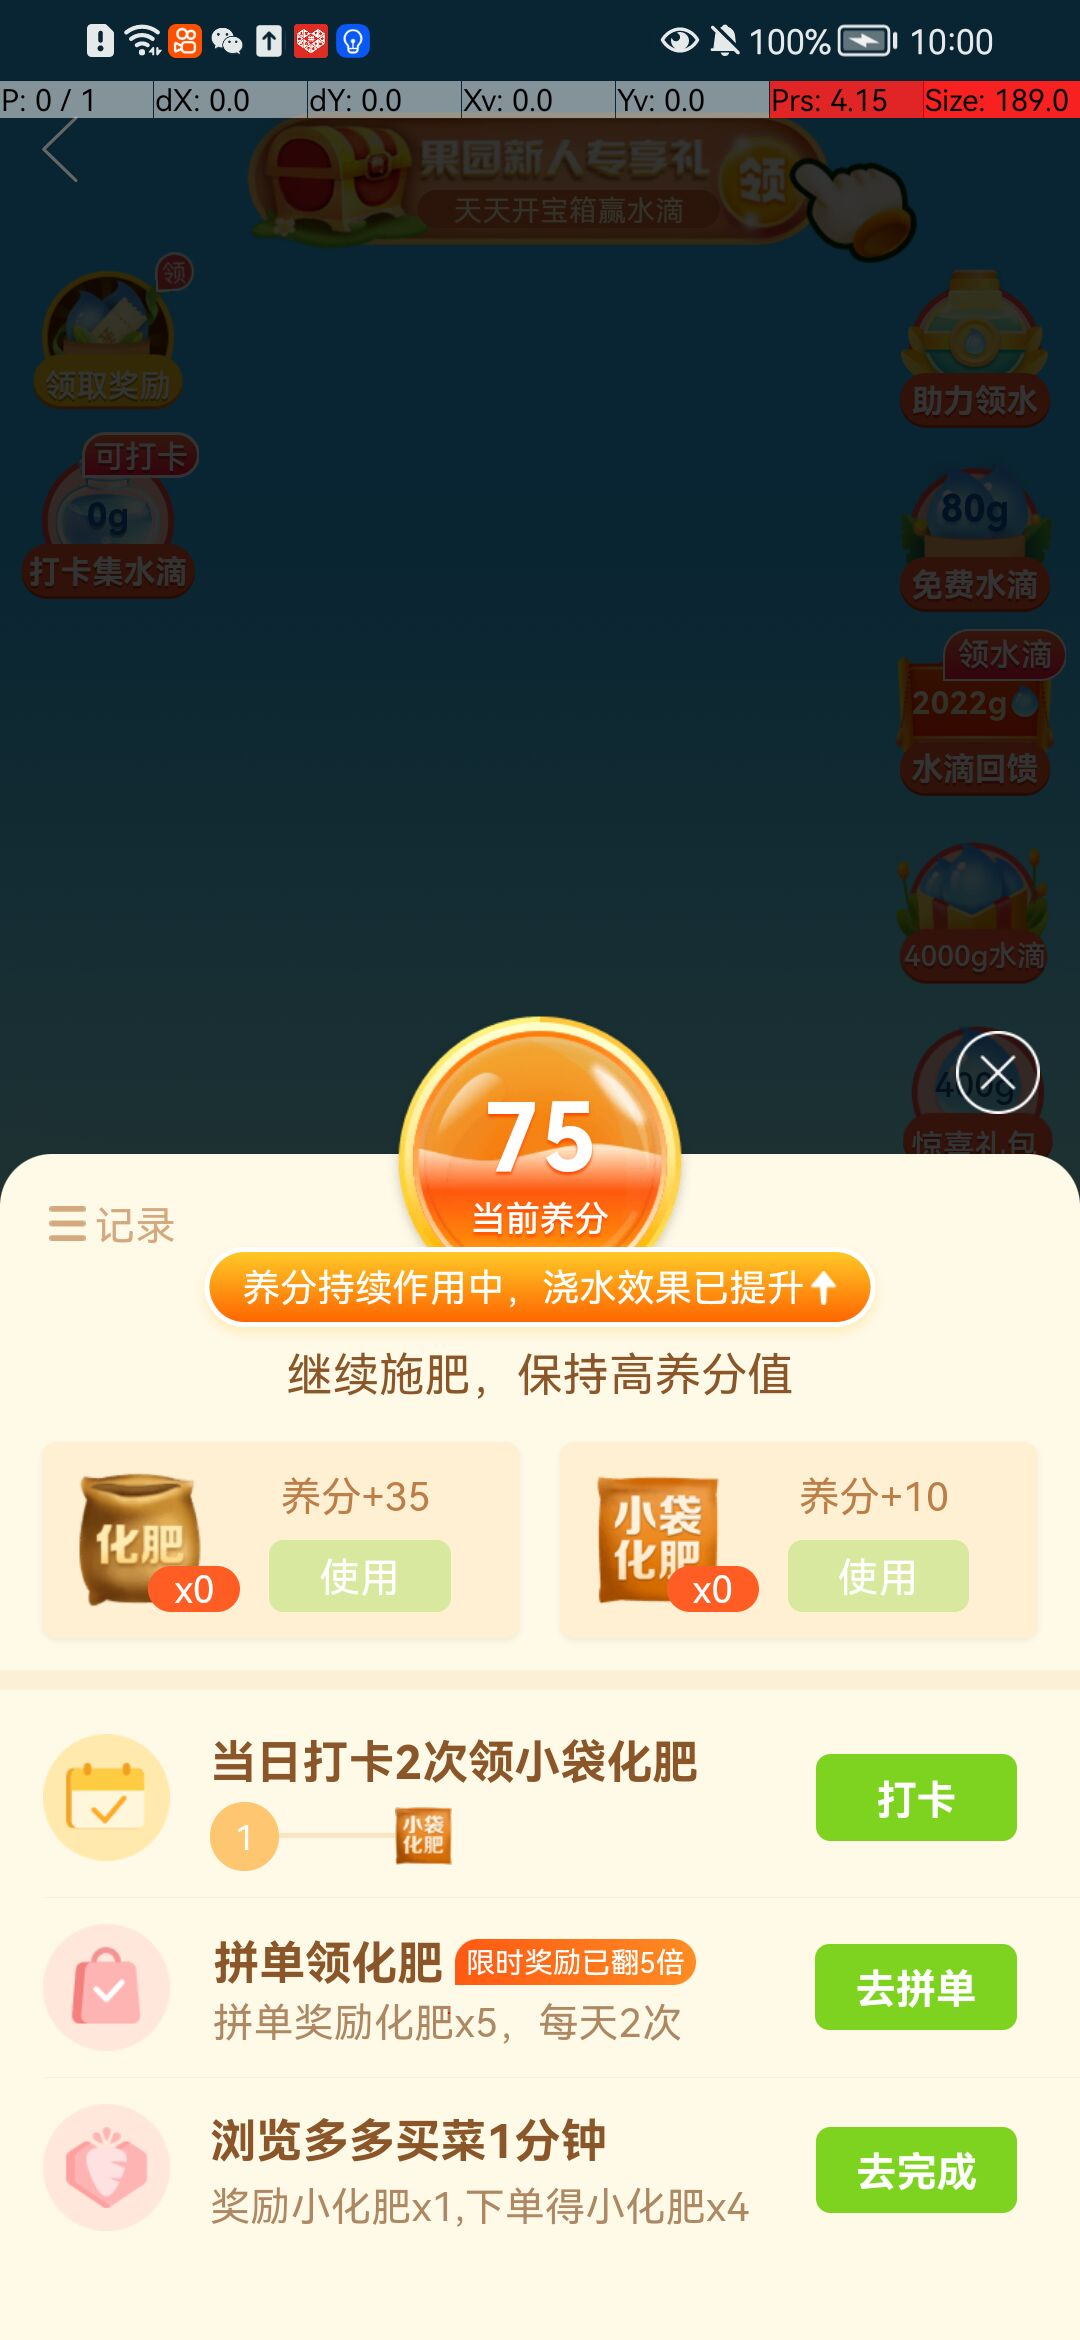popup: (946, 1036, 1043, 1107)
